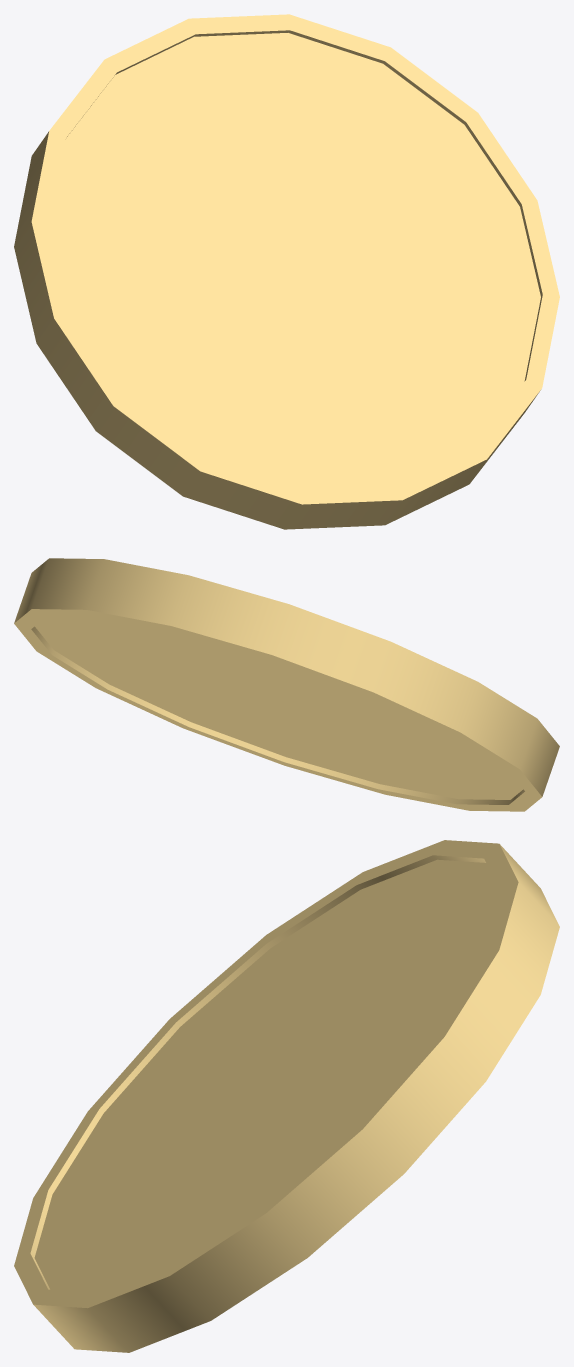
File: item_gold_coin.FBX
The picture shows the model from 3 angles, top to bottom: view 1: azimuth 30°, elevation 25°; view 2: azimuth 150°, elevation 25°; view 3: azimuth 270°, elevation 25°; orthographic projection. The views are drawn at different scales.
Parts seen in each view (by area): view 1: item_gold_coin; view 2: item_gold_coin; view 3: item_gold_coin.
Part boxes in pixels (box(x1,y1,x2,y2)): item_gold_coin: box(14, 14, 559, 529); item_gold_coin: box(14, 558, 559, 811); item_gold_coin: box(14, 840, 559, 1352).
Size of what is drawn, in the model's own units: 16.19 by 13.42 by 11.62.
